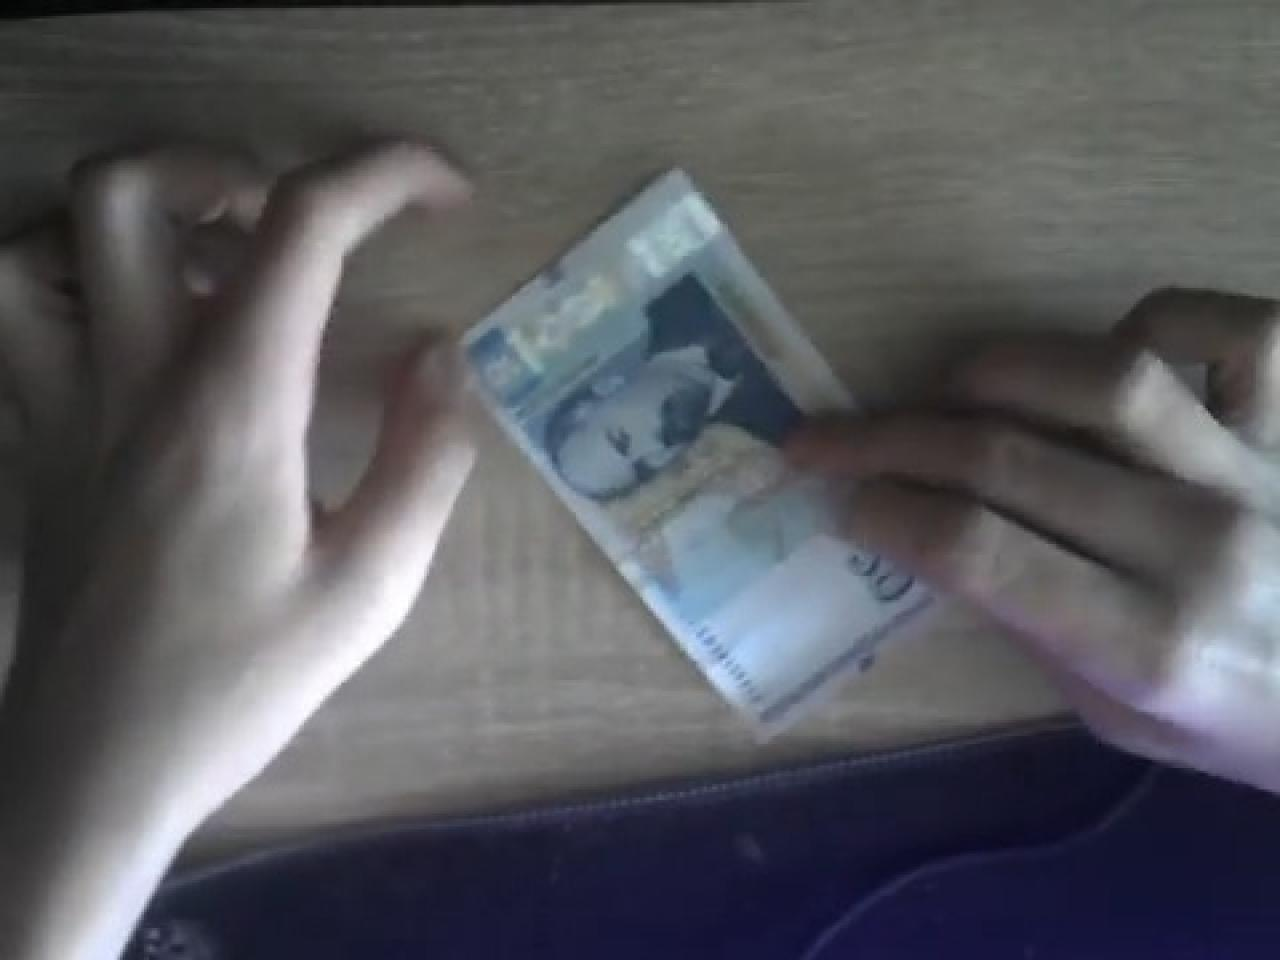20leva: (459, 165, 944, 733), (461, 165, 939, 733)
